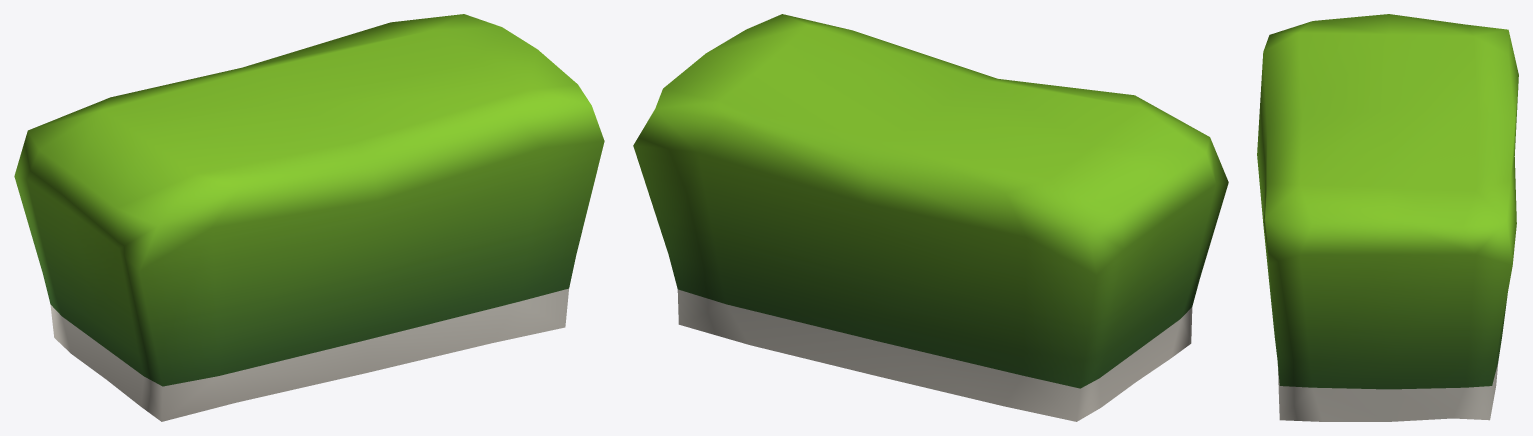
The model's file is Bush.fbx.
3 views of the same model, side by side, from view 1: azimuth 30°, elevation 25°; view 2: azimuth 150°, elevation 25°; view 3: azimuth 270°, elevation 25° (orthographic). The views are drawn at different scales.
Parts seen in each view (by area): view 1: Bush; view 2: Bush; view 3: Bush.
Boxes of the visible parts, bbox=[...] form: Bush: bbox=[14, 14, 604, 421]; Bush: bbox=[633, 14, 1228, 421]; Bush: bbox=[1257, 14, 1518, 421].
Bounding box in the file's own units: 116 × 54.8 × 58.32.
